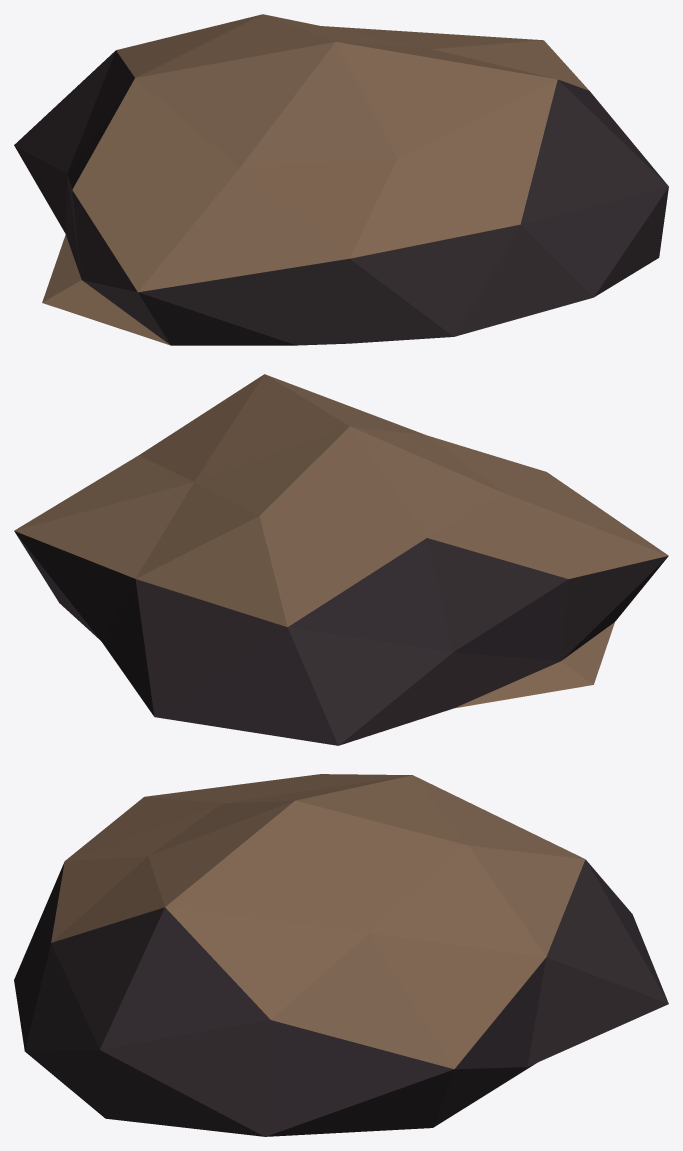
The model's file is boulder_m3.glb.
3 renders of one model, top to bottom at view 1: azimuth 30°, elevation 25°; view 2: azimuth 150°, elevation 25°; view 3: azimuth 270°, elevation 25°, orthographic. The views are drawn at different scales.
Visible parts, largest first — view 1: body__M_Cliff_Crust_T0, body__M_Cliff_Licorice; view 2: body__M_Cliff_Crust_T0, body__M_Cliff_Licorice; view 3: body__M_Cliff_Crust_T0, body__M_Cliff_Licorice.
Boxes of the visible parts, x1,y1,x2,y2 form: body__M_Cliff_Crust_T0: (42,14,589,345); body__M_Cliff_Licorice: (14,50,668,345); body__M_Cliff_Crust_T0: (14,374,668,708); body__M_Cliff_Licorice: (14,531,668,745); body__M_Cliff_Crust_T0: (51,774,585,1069); body__M_Cliff_Licorice: (14,859,668,1136).
Size of the model in its own units: 0.5188 by 0.1745 by 0.5052.
